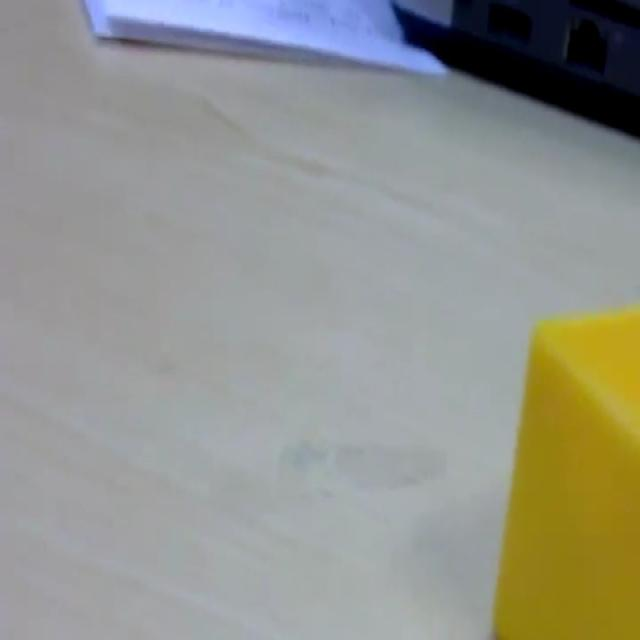yellow_block: (491, 304, 638, 636)
